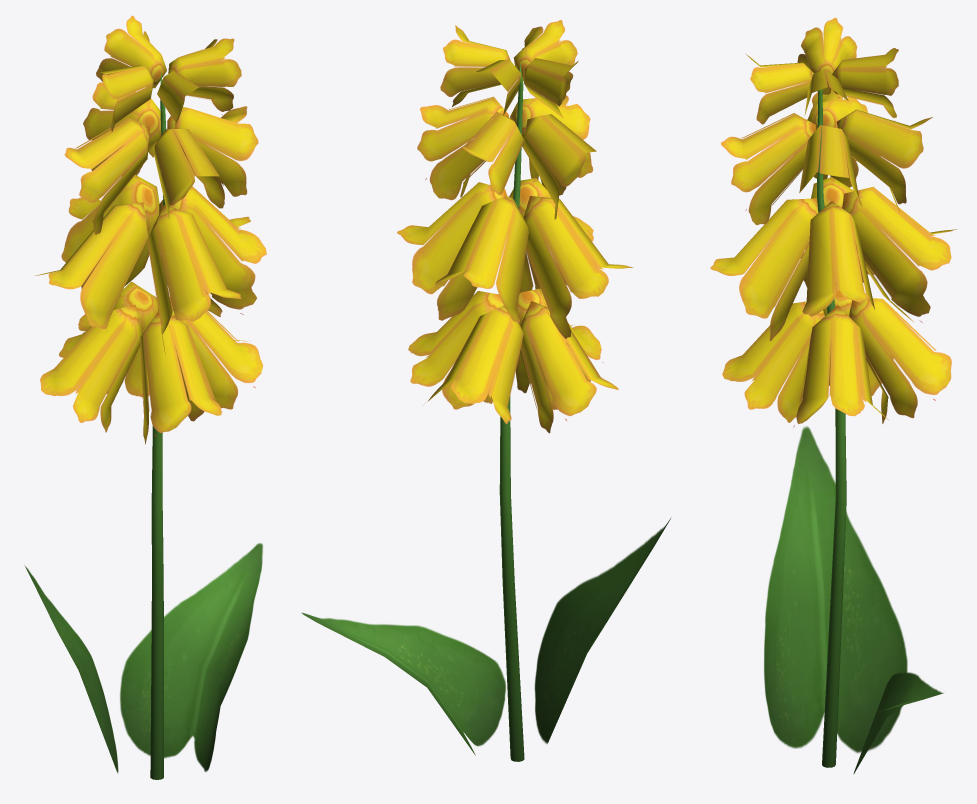
The model's file is flower-single-2.glb.
3 views of the same model, side by side, from view 1: azimuth 30°, elevation 25°; view 2: azimuth 150°, elevation 25°; view 3: azimuth 270°, elevation 25° (orthographic).
Parts seen in each view (by area): view 1: Flower_4_Single; view 2: Flower_4_Single; view 3: Flower_4_Single.
Boxes of the visible parts, x1,y1,x2,y2 form: Flower_4_Single: (24,15,266,779); Flower_4_Single: (301,20,671,761); Flower_4_Single: (710,17,957,773).
Size of the model in its own units: 1.07 by 2.42 by 0.7729.
Materials: 2 (2 with a texture image).
